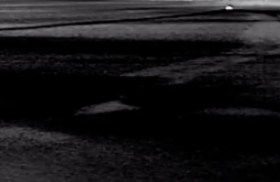Target: (225, 7, 232, 10)
